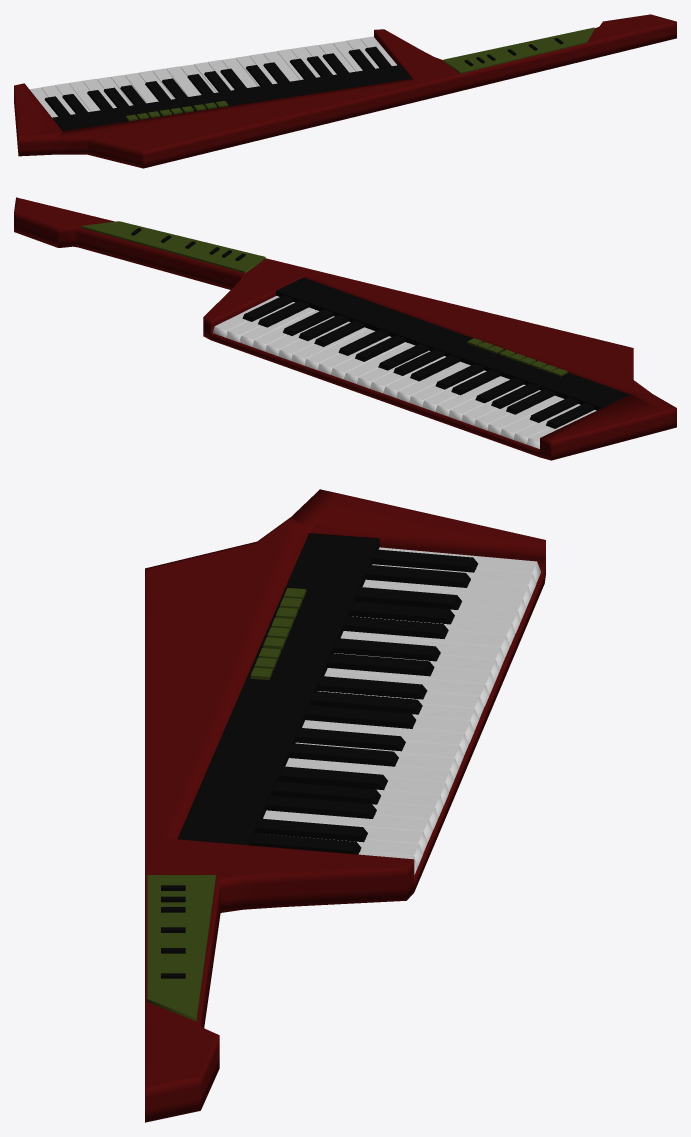
File: keytar.FBX
The picture shows the model from 3 angles, top to bottom: view 1: azimuth 30°, elevation 25°; view 2: azimuth 150°, elevation 25°; view 3: azimuth 270°, elevation 25°; orthographic projection. The views are drawn at different scales.
Visible parts, largest first — view 1: keytar; view 2: keytar; view 3: keytar.
Part boxes in pixels (x1,y1,x2,y2): keytar: (14, 14, 676, 168); keytar: (14, 197, 676, 460); keytar: (145, 489, 545, 1122).
Size of the model in its own units: 26.5 by 0.8237 by 7.49.
